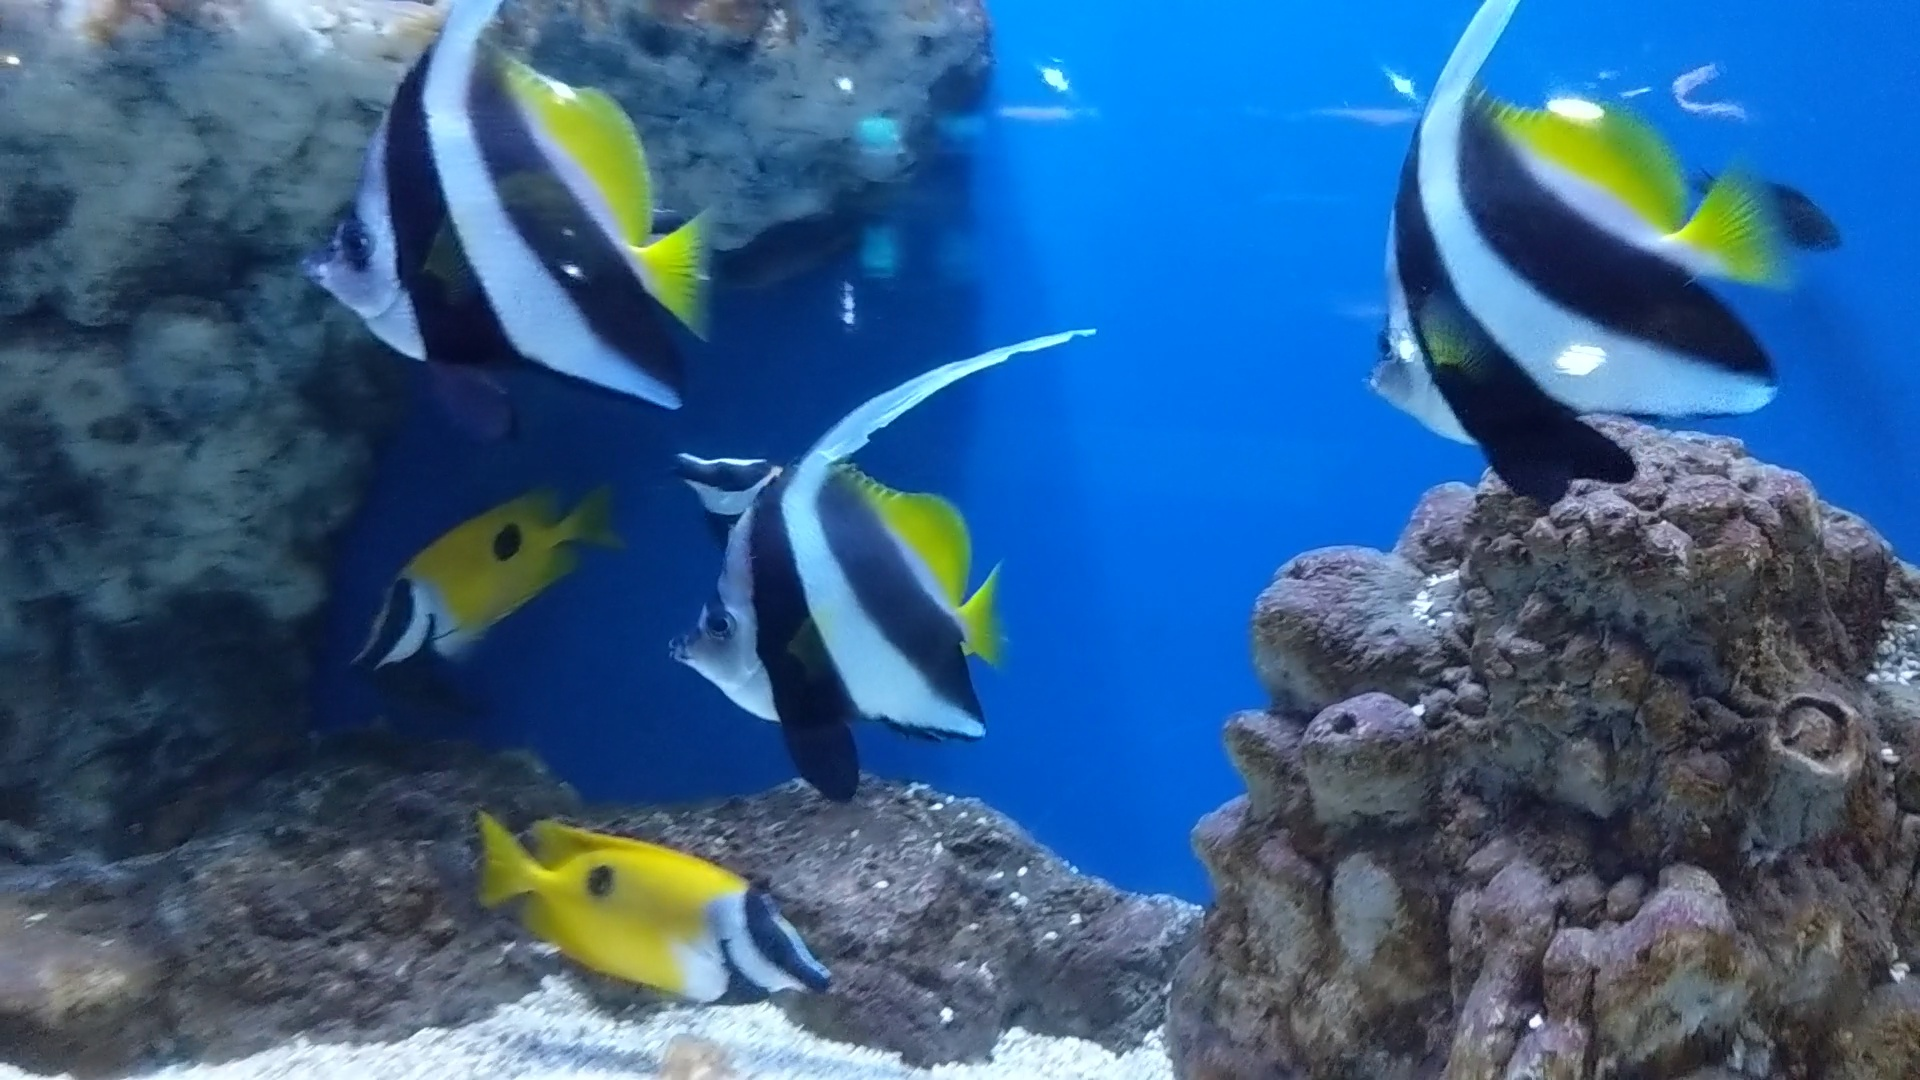moorfish: (1335, 11, 1834, 498), (642, 324, 1118, 812), (301, 15, 707, 429)
rabbitfish: (448, 793, 824, 1021), (355, 460, 599, 692)
